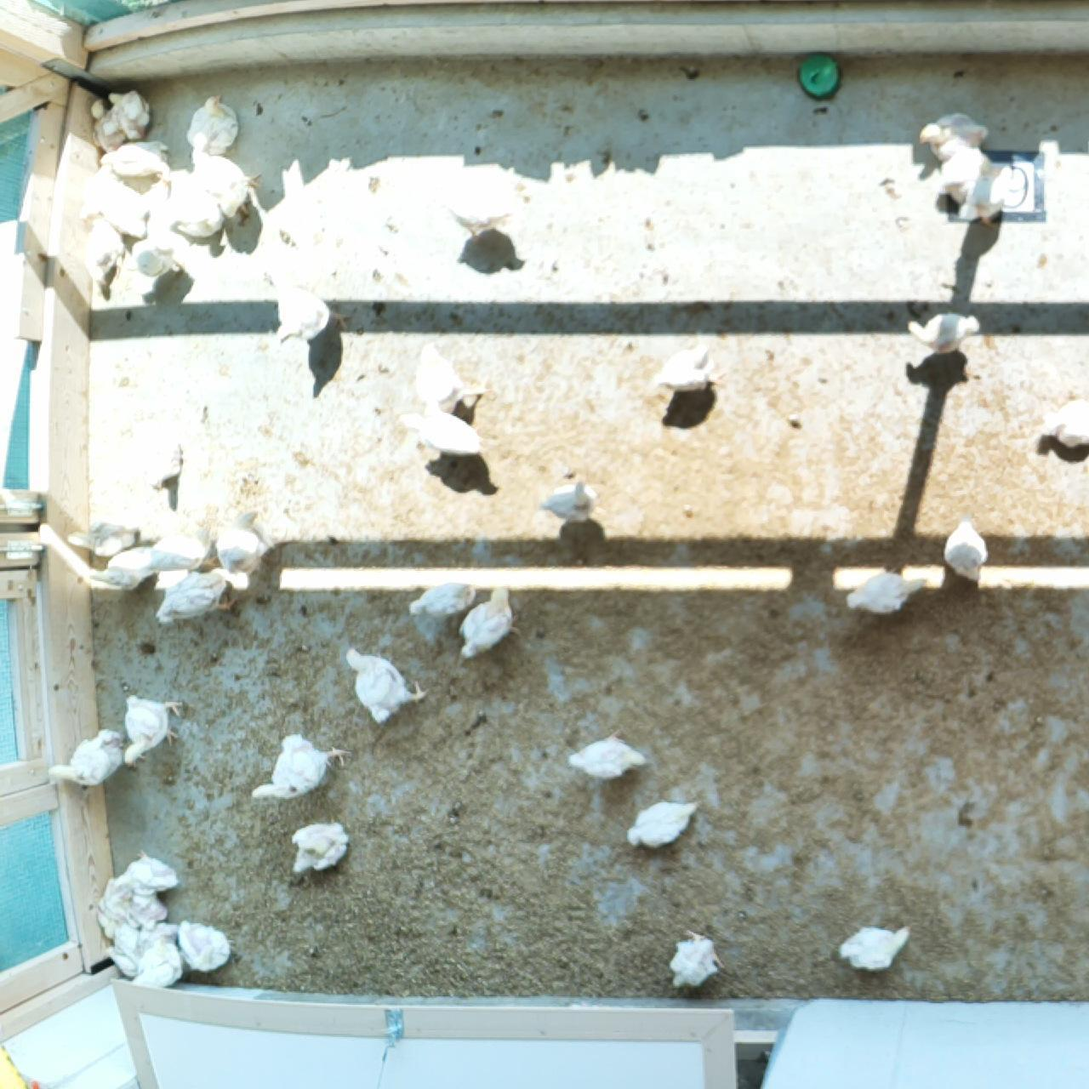chicken: (249, 731, 351, 806), (344, 644, 429, 728), (407, 337, 492, 415), (118, 689, 189, 770), (270, 272, 336, 359), (154, 565, 243, 629), (187, 150, 265, 221), (44, 724, 127, 789), (403, 402, 489, 464), (832, 919, 919, 979), (87, 164, 154, 241), (438, 185, 519, 248), (283, 817, 354, 886), (456, 582, 517, 662), (164, 168, 229, 242), (840, 567, 932, 618), (624, 796, 704, 854), (564, 726, 648, 781), (916, 108, 996, 162), (904, 307, 984, 361), (213, 505, 277, 572), (651, 337, 721, 397), (957, 161, 1017, 229), (664, 925, 725, 991), (87, 541, 160, 596), (936, 138, 989, 212), (172, 913, 234, 976), (185, 93, 243, 160), (107, 847, 183, 898), (81, 214, 128, 295), (941, 510, 991, 585), (1035, 391, 1089, 460), (535, 473, 605, 526), (143, 520, 214, 572), (403, 579, 483, 624), (68, 513, 142, 560), (126, 232, 190, 279), (128, 938, 182, 991), (98, 143, 172, 181), (107, 89, 153, 139), (90, 97, 128, 157), (117, 888, 170, 929), (94, 884, 128, 947), (106, 921, 144, 977), (131, 919, 181, 952)
